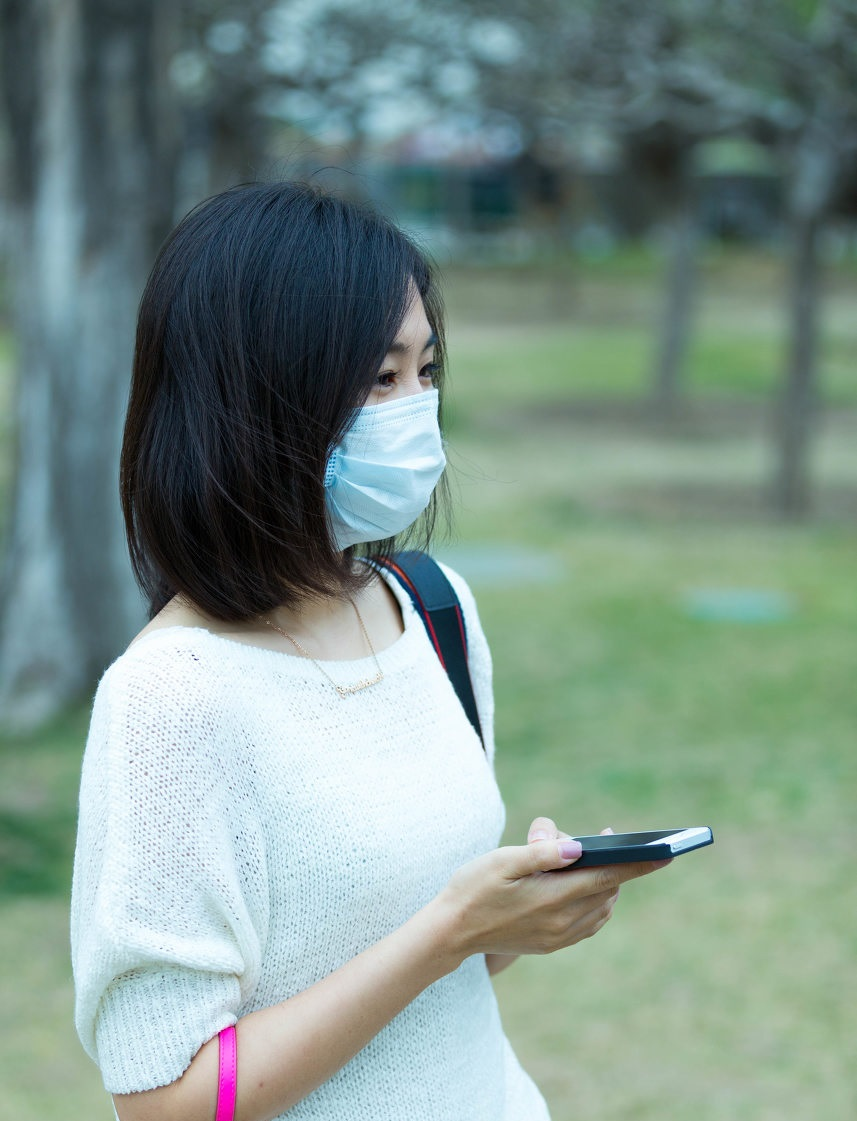face_mask: (305, 258, 445, 550)
